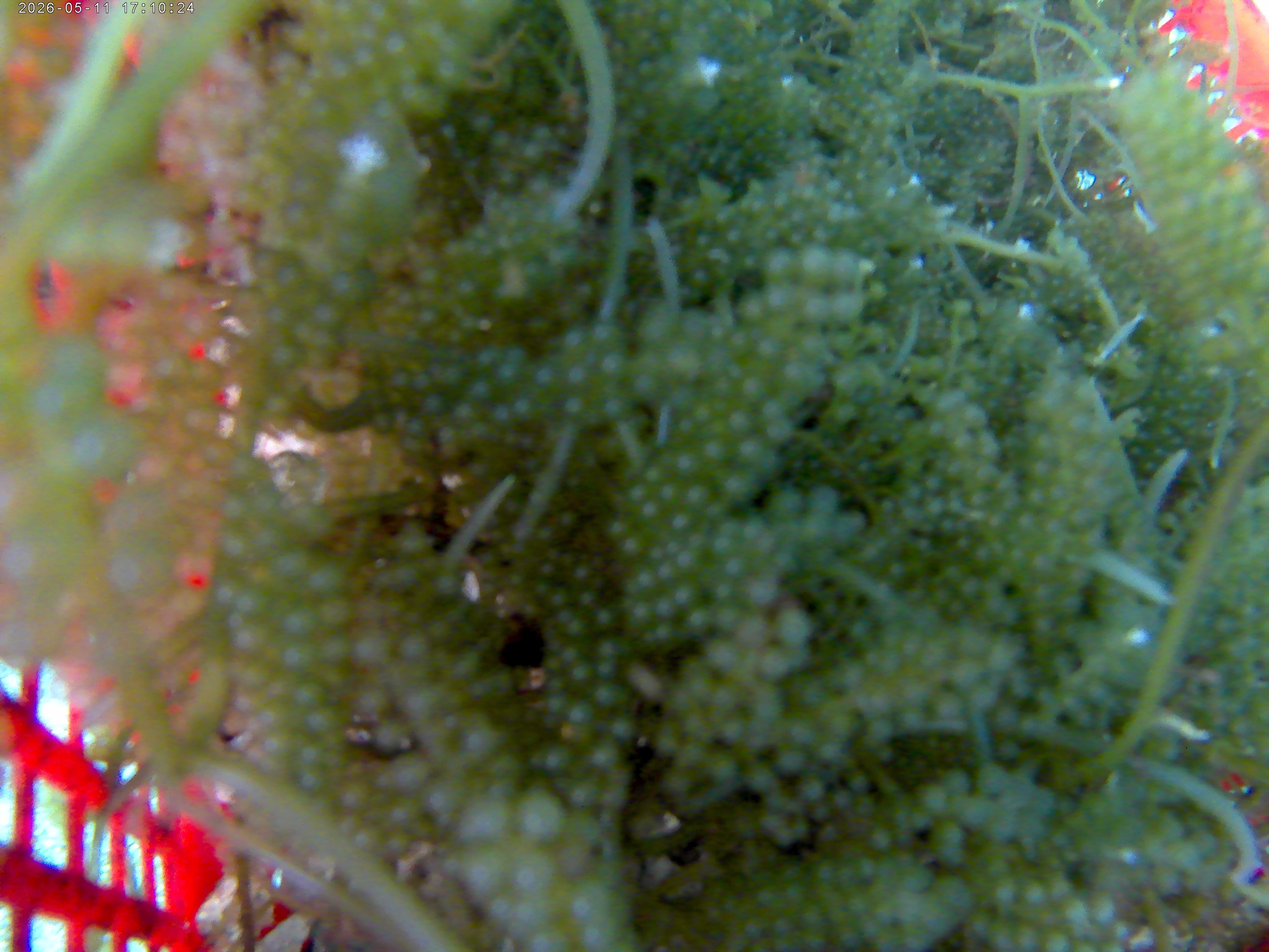Harvestable: (511, 791, 567, 845), (456, 843, 507, 899), (505, 848, 561, 898), (564, 877, 612, 931), (457, 800, 512, 844), (781, 358, 825, 399), (773, 606, 810, 647), (759, 247, 797, 286), (799, 245, 833, 288), (234, 584, 269, 622), (280, 640, 316, 675), (735, 612, 768, 648), (308, 565, 345, 597), (929, 821, 963, 855), (827, 253, 858, 289), (584, 741, 618, 773), (650, 722, 682, 756), (684, 667, 714, 702), (770, 486, 803, 517), (431, 58, 462, 91), (709, 639, 739, 673), (832, 515, 862, 548), (629, 374, 663, 403), (1023, 392, 1058, 420), (804, 295, 835, 326), (660, 766, 690, 798), (711, 603, 743, 633), (978, 765, 1010, 795), (948, 659, 982, 687), (282, 206, 317, 233), (292, 174, 327, 201), (704, 753, 734, 784), (332, 275, 363, 305), (286, 609, 320, 636), (1063, 401, 1092, 432), (1058, 897, 1087, 928), (834, 293, 866, 321), (599, 350, 627, 382), (802, 516, 828, 550), (1045, 876, 1074, 906), (399, 631, 429, 660), (934, 691, 964, 720), (760, 648, 788, 679), (1018, 878, 1047, 907), (987, 922, 1016, 951), (222, 529, 251, 558), (293, 680, 323, 708), (763, 282, 790, 313), (477, 344, 504, 375), (831, 668, 869, 690), (790, 716, 816, 748), (672, 450, 701, 478), (544, 744, 573, 772), (721, 473, 751, 500), (808, 486, 835, 516), (253, 248, 280, 278), (1088, 895, 1115, 925), (307, 707, 337, 734), (487, 895, 514, 925), (324, 636, 355, 662), (898, 629, 926, 657), (1012, 924, 1040, 952), (796, 775, 825, 802), (569, 781, 598, 808), (907, 682, 941, 705), (1067, 504, 1095, 531), (684, 484, 712, 511), (740, 375, 768, 402), (814, 739, 842, 766), (919, 788, 948, 814), (737, 436, 762, 466), (268, 309, 298, 334), (708, 687, 735, 714), (277, 266, 304, 293), (703, 437, 731, 463), (972, 686, 1000, 712), (833, 370, 861, 396), (943, 768, 969, 796), (601, 783, 629, 809), (728, 327, 753, 356), (803, 334, 828, 363), (988, 878, 1017, 903), (326, 59, 356, 83), (1061, 565, 1088, 591), (781, 747, 809, 772), (900, 708, 929, 732), (1042, 928, 1071, 952), (383, 33, 409, 59), (994, 705, 1020, 731), (741, 516, 767, 542), (1039, 535, 1066, 560), (959, 406, 987, 430), (594, 683, 622, 707), (738, 295, 764, 320), (1071, 376, 1097, 401), (568, 700, 594, 725), (657, 483, 682, 509), (629, 600, 654, 626), (760, 397, 786, 422), (727, 412, 754, 436), (923, 640, 948, 665), (1156, 869, 1181, 894), (676, 582, 701, 606), (1046, 372, 1071, 396), (686, 606, 711, 630), (676, 548, 700, 573), (721, 718, 746, 742), (386, 831, 411, 855), (969, 913, 993, 938), (863, 321, 888, 345), (868, 717, 894, 740), (594, 640, 620, 663), (723, 555, 749, 578), (767, 419, 794, 441), (830, 717, 858, 738), (712, 534, 736, 558), (1058, 593, 1082, 617), (565, 365, 589, 389), (1014, 510, 1038, 534), (300, 741, 324, 765), (438, 363, 462, 387), (301, 768, 325, 792), (592, 322, 617, 345), (756, 338, 781, 361), (1035, 430, 1057, 456), (749, 767, 775, 789), (975, 465, 1003, 485), (633, 565, 656, 589), (272, 344, 295, 368), (978, 436, 1001, 460), (622, 534, 645, 558), (670, 512, 694, 535), (692, 400, 715, 424), (626, 483, 650, 506), (905, 807, 929, 830), (522, 140, 545, 164), (352, 46, 376, 69), (712, 376, 736, 399), (848, 892, 872, 915), (994, 648, 1019, 670), (847, 771, 872, 793), (828, 789, 853, 811), (869, 825, 891, 850), (639, 499, 661, 524), (832, 401, 857, 423), (714, 577, 737, 600), (489, 132, 512, 155), (469, 378, 492, 401), (959, 576, 982, 599), (1025, 486, 1048, 509), (1056, 463, 1078, 487), (614, 715, 636, 739), (417, 266, 441, 288), (705, 499, 727, 523), (802, 679, 827, 700), (1105, 921, 1130, 942), (942, 562, 967, 583), (469, 113, 494, 134), (655, 558, 677, 581), (770, 544, 793, 566), (1031, 558, 1053, 581), (410, 370, 433, 392), (370, 410, 392, 433), (547, 692, 570, 714), (593, 608, 615, 631), (421, 393, 443, 416), (453, 401, 476, 423), (496, 361, 519, 383), (442, 239, 465, 261), (759, 812, 783, 833), (547, 588, 569, 610), (606, 518, 628, 540), (417, 306, 439, 328), (857, 856, 879, 878), (687, 530, 709, 552), (436, 573, 458, 595), (901, 504, 923, 526), (952, 432, 974, 454), (849, 620, 871, 642), (764, 794, 787, 815), (491, 402, 512, 425), (855, 795, 876, 818), (1033, 613, 1054, 636), (1077, 474, 1097, 498), (315, 308, 340, 327), (655, 596, 676, 618), (511, 397, 533, 418), (571, 663, 593, 684), (654, 620, 675, 642), (563, 327, 585, 348), (707, 418, 729, 439), (594, 659, 616, 680), (566, 617, 588, 638), (456, 278, 477, 300), (999, 739, 1021, 760), (1215, 614, 1237, 635), (1000, 491, 1022, 512), (816, 861, 837, 883), (505, 346, 527, 367), (773, 825, 794, 846), (565, 394, 586, 415), (925, 496, 946, 517), (819, 822, 840, 843), (603, 398, 624, 419), (534, 366, 555, 387), (1072, 446, 1092, 468), (973, 543, 993, 565), (1029, 459, 1049, 480), (689, 269, 710, 289), (888, 561, 909, 581), (969, 488, 990, 508), (789, 205, 810, 225), (789, 819, 808, 841), (932, 586, 952, 606), (470, 222, 490, 242), (438, 425, 458, 445), (926, 355, 946, 375), (1239, 601, 1259, 621), (574, 281, 594, 301), (406, 417, 426, 437), (826, 204, 845, 225), (676, 419, 698, 437), (834, 335, 854, 354), (645, 465, 665, 484), (546, 676, 566, 695), (711, 397, 731, 416), (926, 420, 945, 440), (953, 297, 972, 316), (391, 370, 410, 389), (658, 450, 677, 469), (724, 362, 744, 380), (870, 283, 890, 301), (989, 538, 1007, 558), (810, 805, 831, 822), (561, 645, 580, 663), (532, 580, 551, 598), (658, 12, 676, 31), (558, 510, 577, 528), (725, 227, 743, 246), (477, 242, 495, 261), (533, 124, 551, 142), (227, 611, 245, 629), (459, 314, 477, 332), (788, 228, 806, 246), (1047, 228, 1065, 246), (578, 590, 597, 607), (1072, 941, 1100, 952), (621, 576, 639, 593), (556, 608, 574, 625), (544, 655, 562, 672), (573, 564, 591, 581), (955, 535, 973, 552), (638, 60, 656, 77), (447, 328, 465, 345), (1160, 512, 1178, 529), (538, 561, 556, 578), (884, 111, 901, 129), (742, 253, 759, 271), (877, 745, 894, 763), (1049, 482, 1065, 501), (924, 473, 941, 490), (939, 517, 956, 534), (825, 179, 842, 196), (586, 200, 603, 217), (406, 359, 424, 375), (1101, 941, 1127, 952), (648, 545, 665, 561), (665, 539, 682, 555), (915, 537, 932, 553), (1074, 249, 1090, 266), (839, 149, 855, 166), (873, 156, 890, 172), (696, 234, 714, 249), (905, 485, 923, 500), (649, 35, 665, 51), (842, 204, 858, 220), (1129, 447, 1147, 461), (441, 124, 456, 140), (880, 499, 895, 515), (810, 152, 826, 167), (388, 390, 403, 406), (1158, 423, 1173, 438), (1050, 276, 1065, 291), (948, 499, 964, 513), (1151, 447, 1166, 461), (870, 114, 884, 129), (879, 95, 893, 109), (1164, 386, 1177, 401), (1161, 408, 1174, 423), (1258, 618, 1269, 635), (863, 69, 876, 83), (1170, 434, 1184, 447), (827, 101, 841, 114), (858, 51, 870, 66), (847, 72, 859, 85), (1144, 460, 1158, 471), (865, 35, 875, 50), (1178, 403, 1189, 413), (877, 68, 887, 78), (858, 86, 869, 95)
